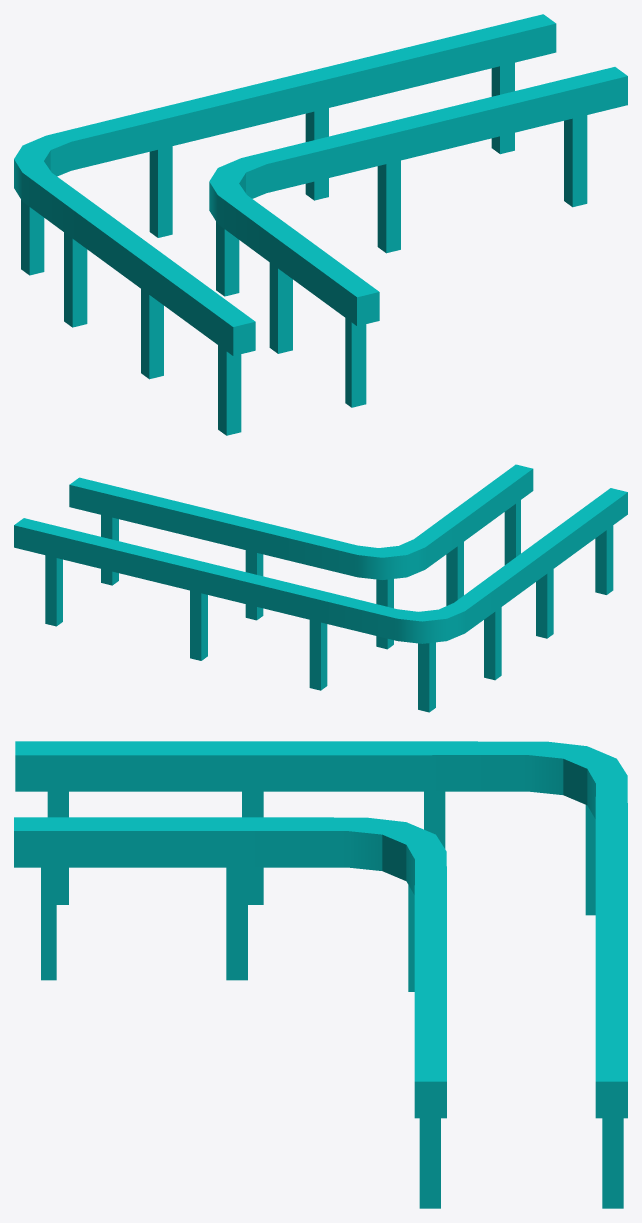
The model's file is chuansongdai.fbx.
3 views of the same model, one above another, from view 1: azimuth 30°, elevation 25°; view 2: azimuth 150°, elevation 25°; view 3: azimuth 270°, elevation 25° (orthographic). The views are drawn at different scales.
Parts seen in each view (by area): view 1: 拐弯, 短面, 长面; view 2: 拐弯, 短面, 长面; view 3: 拐弯, 长面, 短面.
Boxes of the visible parts, box(x1,y1,x2,y2) form: 拐弯: box(14, 62, 431, 379); 短面: box(348, 14, 627, 207); 长面: box(160, 238, 379, 435); 拐弯: box(165, 505, 572, 712); 短面: box(14, 477, 229, 626); 长面: box(460, 464, 627, 594); 拐弯: box(197, 741, 627, 991); 长面: box(14, 741, 197, 980); 短面: box(414, 961, 627, 1208).
Size of the model in its own units: 26.7 by 5.51 by 20.35.
